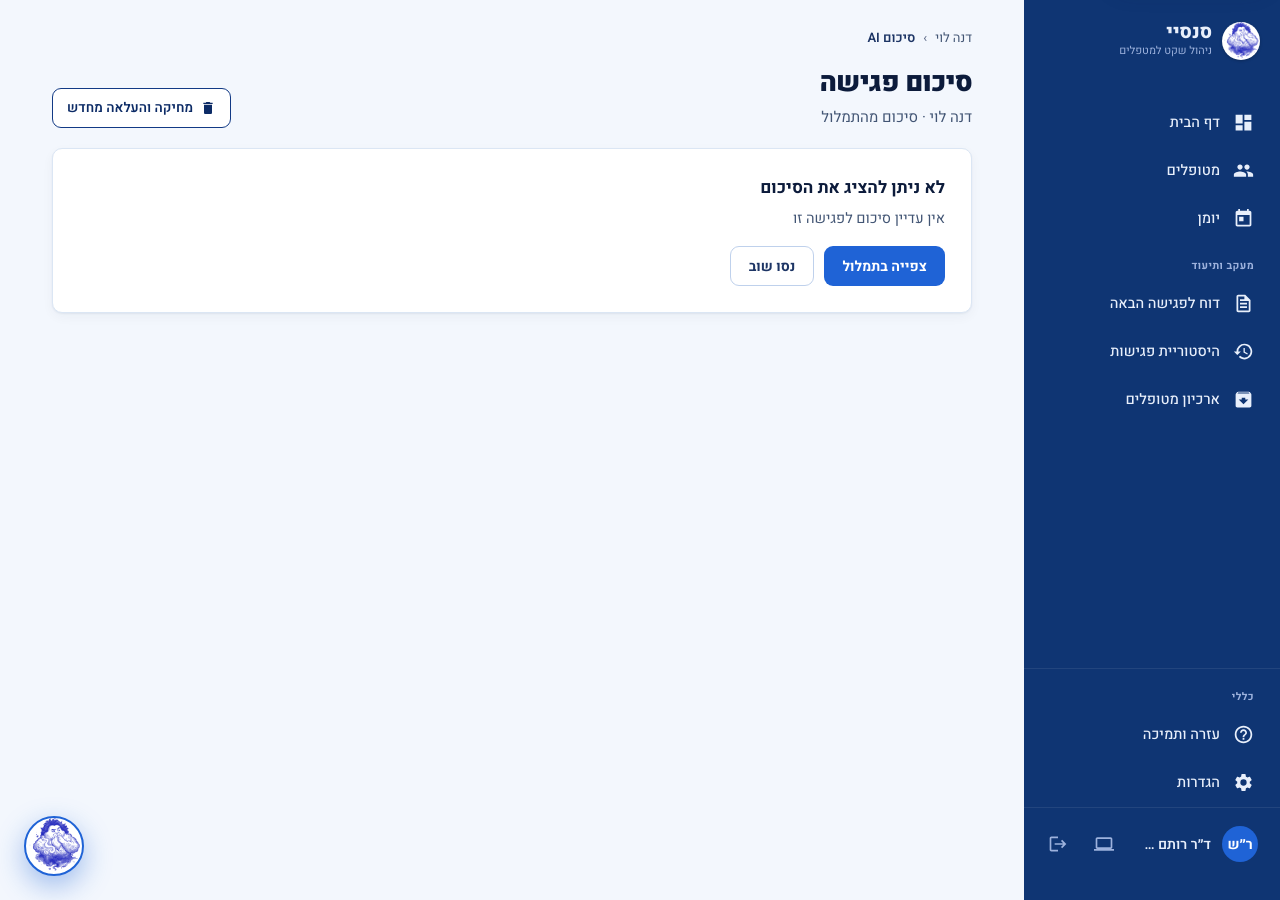
Test: summary page — missing/failed summary recovery › opens the transcript from the error panel
Click the button "צפייה בתמלול" at (885, 266), box [824, 246, 945, 286]
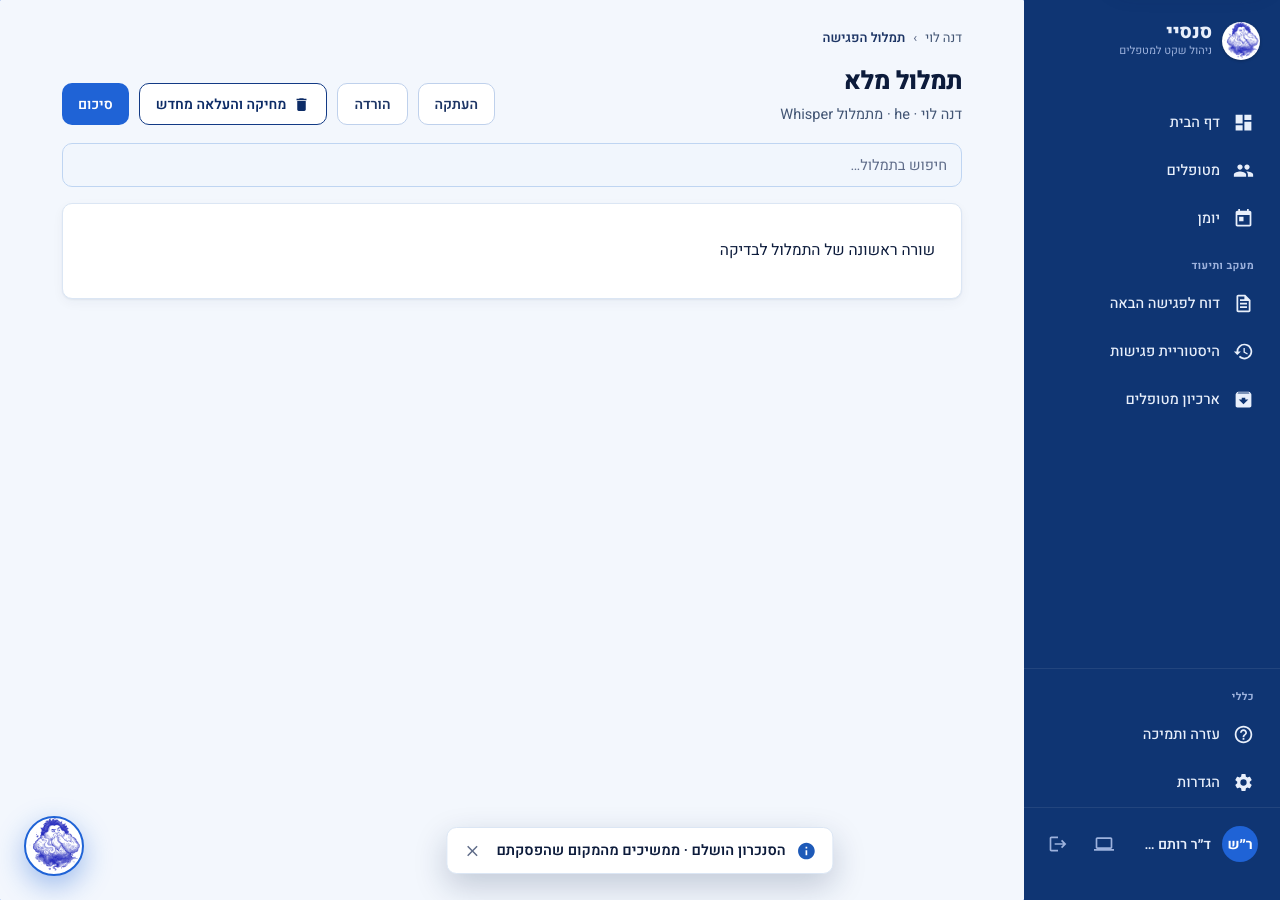
Expected: the text "שורה ראשונה של התמלול לבדיקה" is shown, [720, 239, 935, 262]
